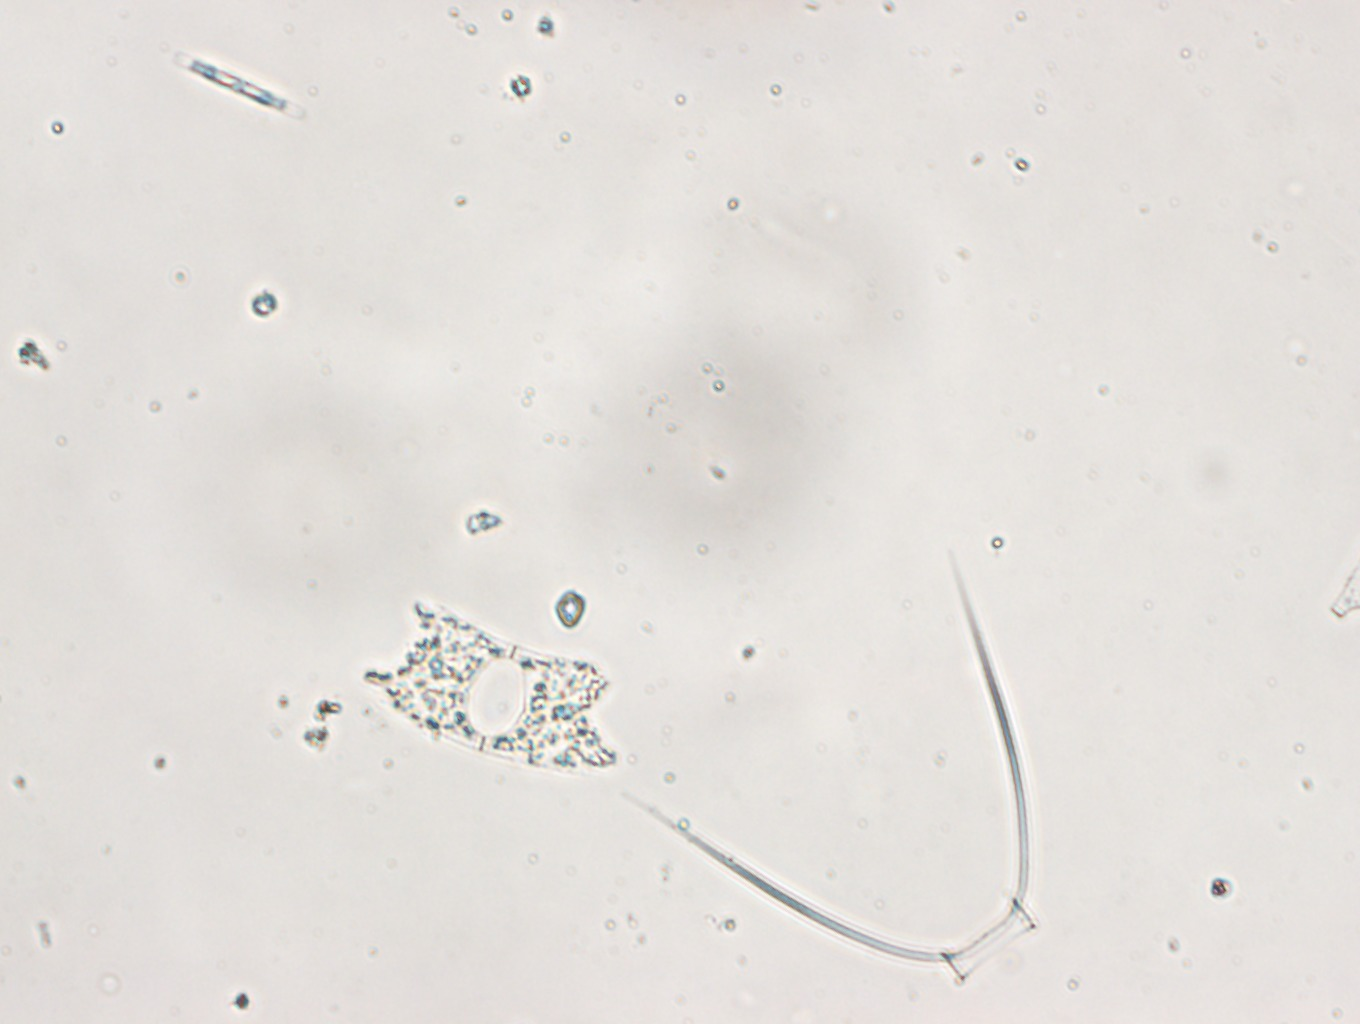chaetoceros: (624, 536, 1037, 983)
eucampia: (364, 598, 614, 778)
